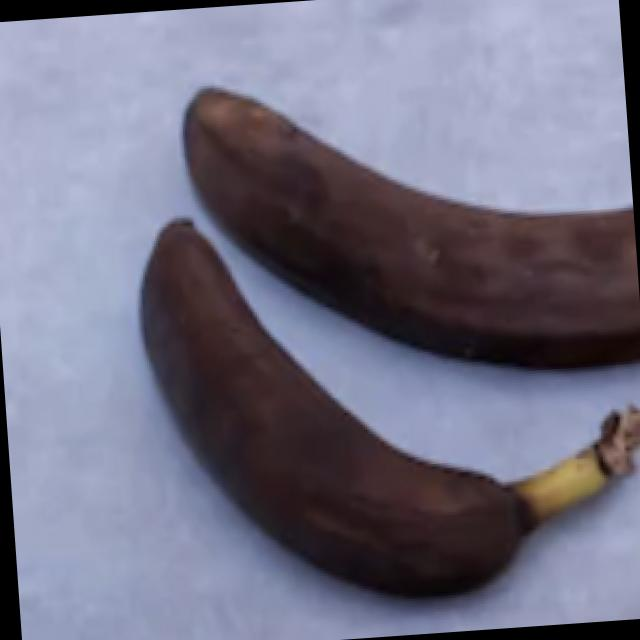rotten-banana: (113, 202, 634, 618), (166, 32, 640, 405)
